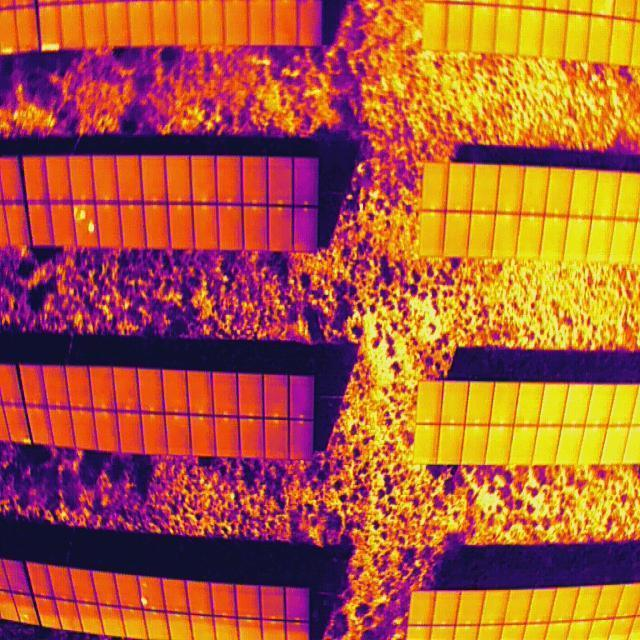panel: (421, 161, 449, 211), (446, 161, 474, 211), (471, 163, 499, 213), (496, 163, 524, 213), (515, 380, 545, 425), (115, 155, 142, 203), (139, 154, 166, 202), (164, 155, 191, 203), (188, 154, 215, 202), (215, 154, 242, 202), (264, 156, 291, 204), (237, 153, 264, 201), (291, 157, 318, 205), (290, 206, 317, 254), (266, 204, 293, 252), (217, 202, 244, 250), (191, 202, 218, 250), (168, 200, 195, 248), (142, 202, 169, 250), (117, 203, 144, 251), (96, 201, 123, 249), (72, 200, 99, 248), (50, 201, 77, 249), (186, 370, 213, 418), (211, 370, 238, 418), (235, 372, 262, 420), (490, 380, 518, 425), (420, 210, 447, 256), (443, 211, 470, 257), (468, 213, 495, 259), (492, 214, 519, 260), (417, 379, 444, 425), (440, 380, 467, 426), (467, 380, 494, 426), (44, 155, 71, 200), (66, 155, 93, 200), (91, 155, 118, 200), (162, 369, 189, 414), (412, 424, 441, 465), (436, 426, 465, 467), (461, 426, 490, 467), (260, 374, 287, 417), (289, 373, 314, 419), (289, 417, 315, 461), (263, 419, 288, 459), (239, 417, 264, 457), (215, 417, 240, 457), (189, 416, 214, 456), (165, 415, 190, 455)
